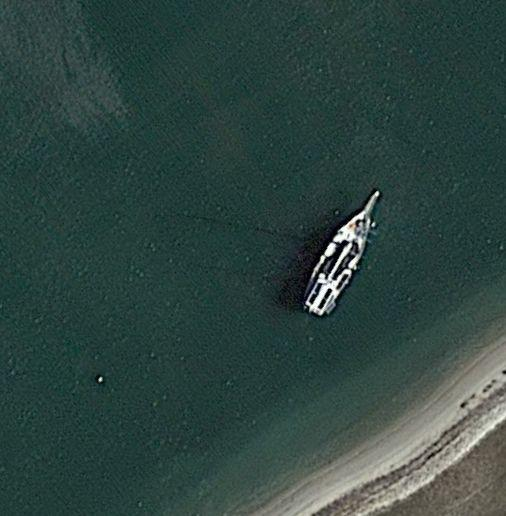Ships: (283, 160, 383, 325)
